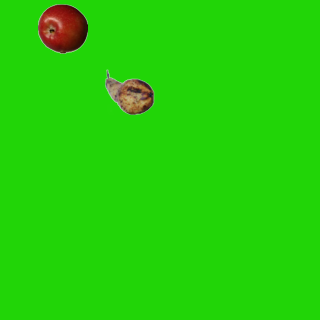Apple Braeburn: (37, 3, 87, 53)
Pear Abate: (104, 67, 154, 117)
